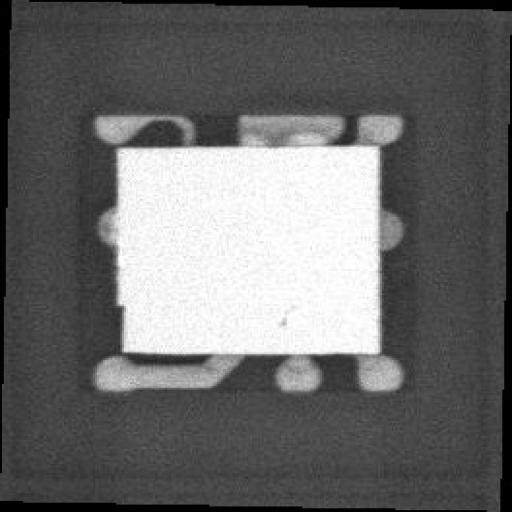DIE_BROKEN: (111, 302, 122, 347)
